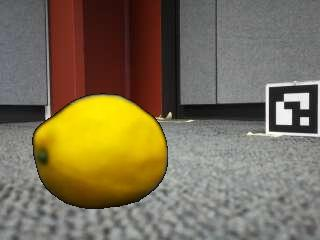lemon: (34, 95, 165, 206)
